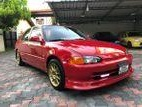car: (16, 22, 131, 92), (119, 30, 142, 46)
